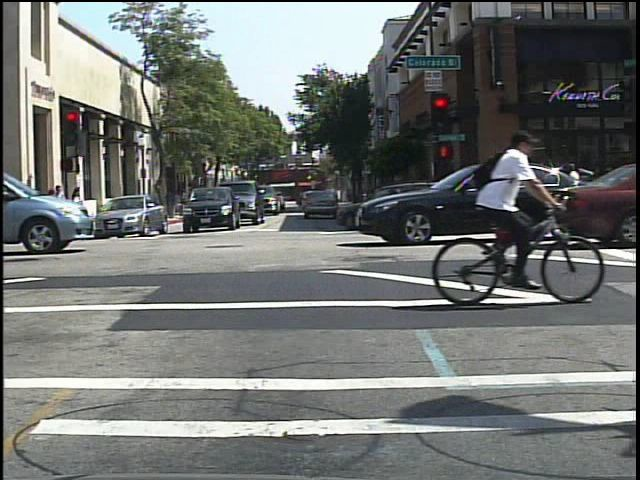person: (458, 121, 550, 300)
